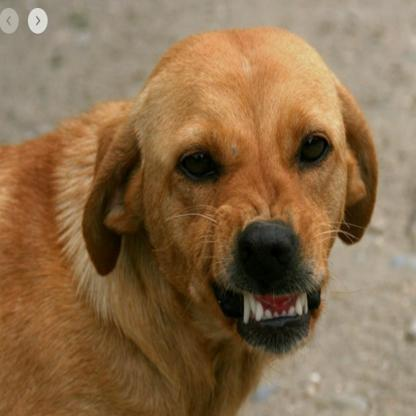dog: (44, 27, 398, 380)
